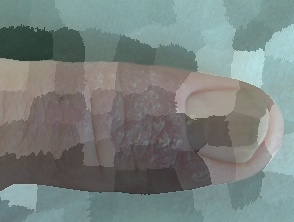Nail_psoriasis: (42, 19, 285, 205)
